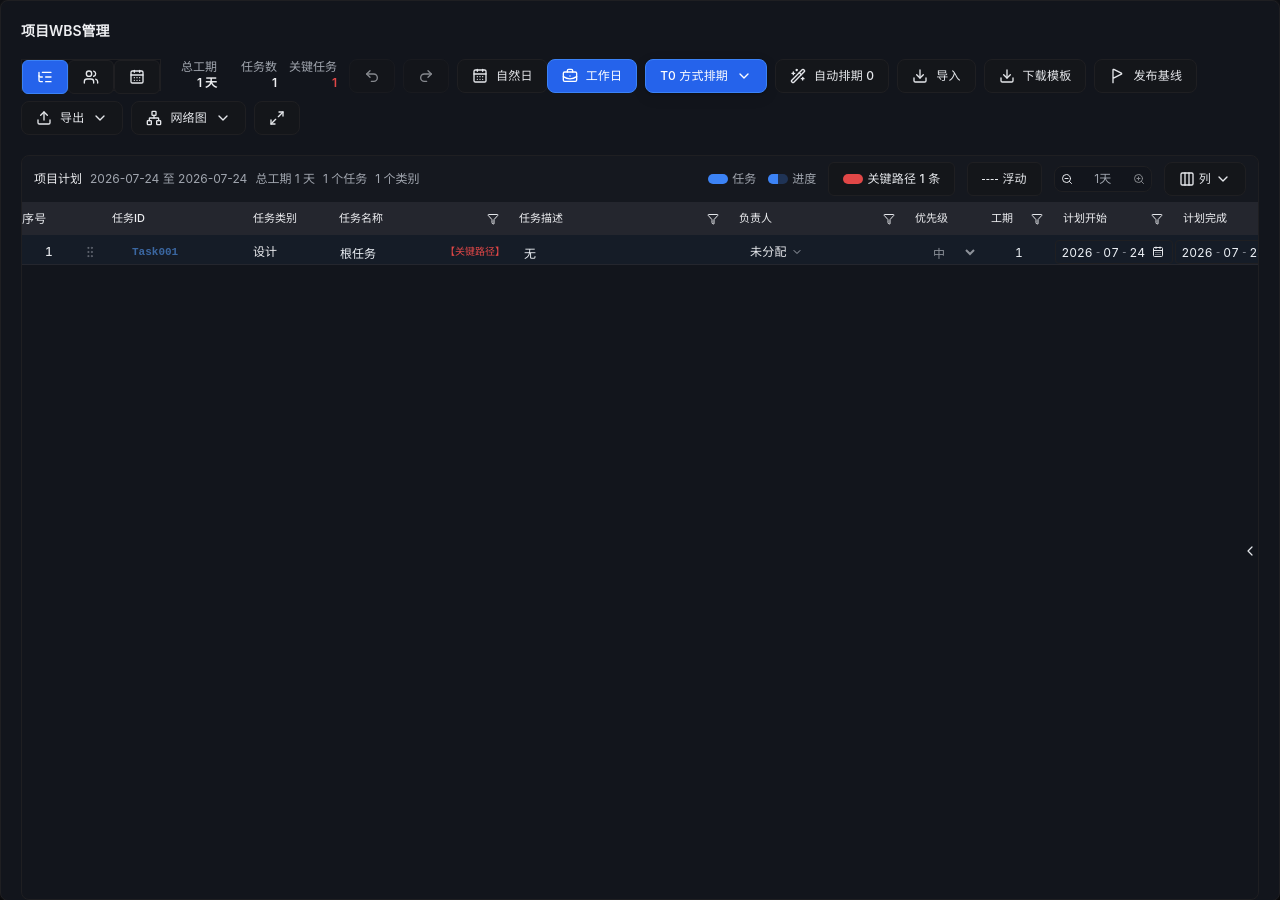
Test: ProjectGanttPanel › switches the global scheduling mode after clearing the incompatible schedule anchor
Click the button with aria-label "全局排期方式" at [706, 76], box [645,59,767,93]
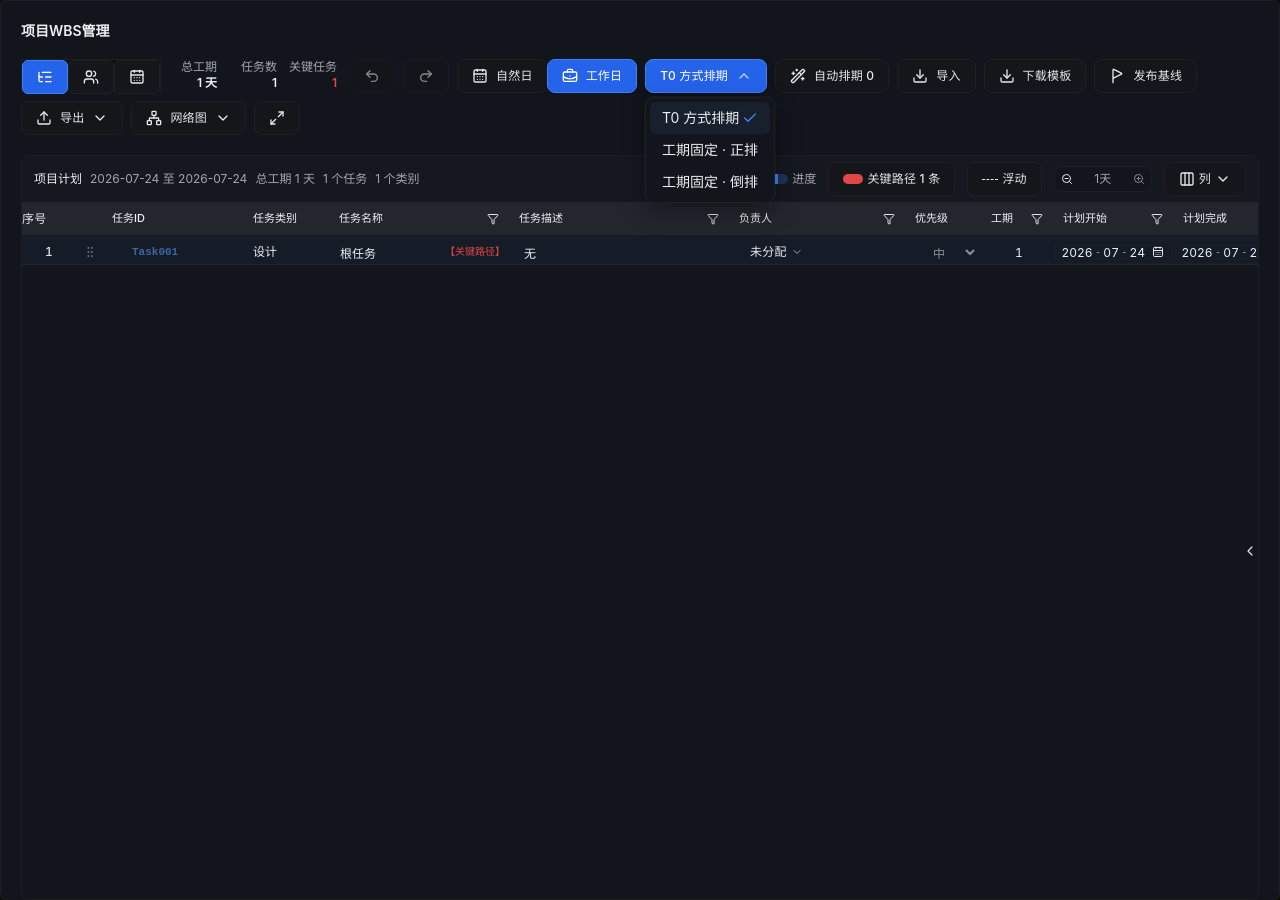
Click the menu item "工期固定 · 正排" at [710, 150], box [662,141,758,158]
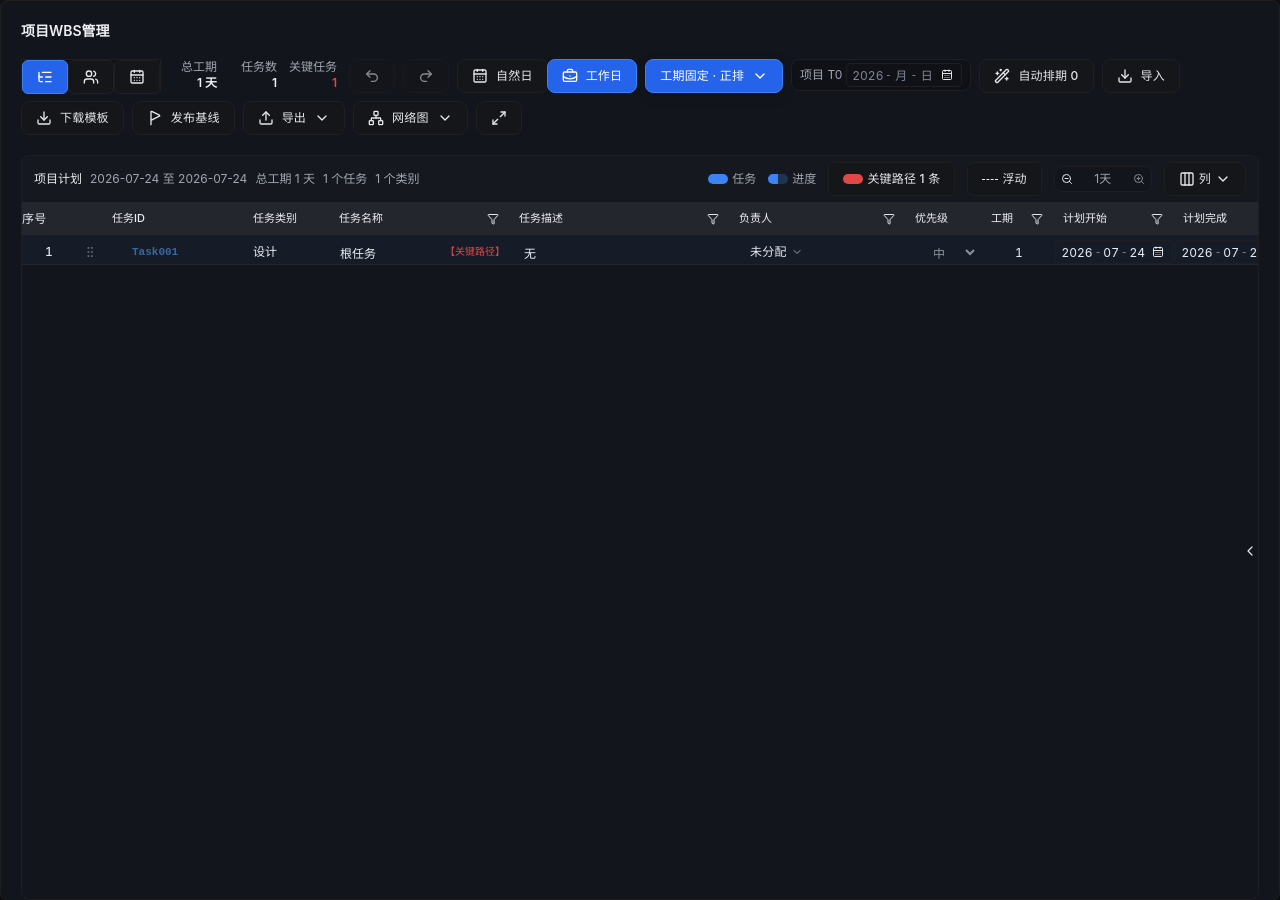
Check: the button with aria-label "全局排期方式" reads "工期固定 · 正排", box [645,59,783,93]
